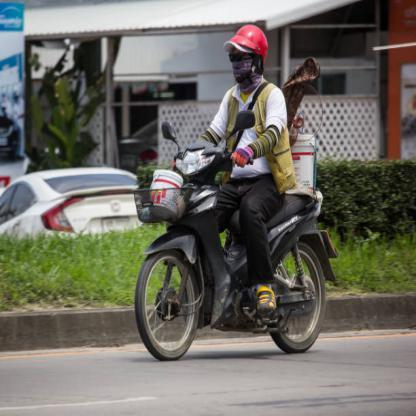Motorcycle: (127, 118, 331, 359)
